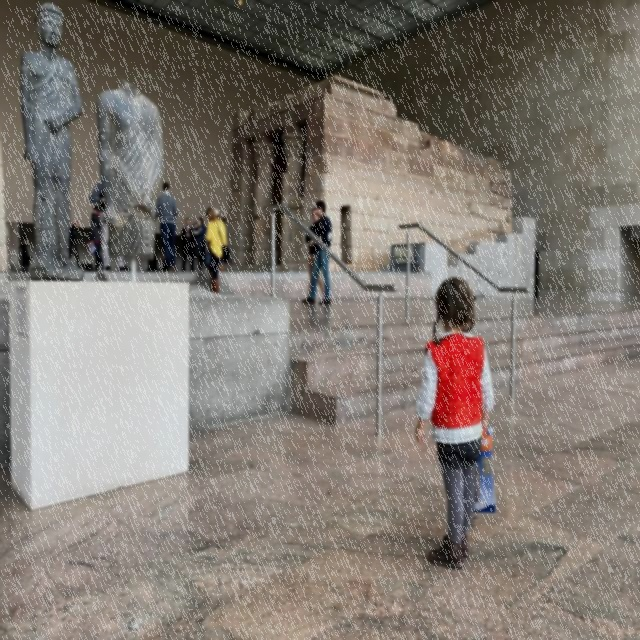pessoa: (412, 276, 496, 572), (18, 2, 86, 284), (94, 78, 168, 262), (88, 179, 132, 273), (300, 198, 334, 304), (154, 181, 180, 271), (203, 206, 228, 294), (304, 206, 326, 302), (86, 204, 105, 272), (180, 216, 197, 272), (68, 218, 84, 270), (18, 233, 36, 273), (196, 215, 208, 272), (144, 248, 166, 272), (412, 251, 421, 273), (192, 221, 199, 229)
